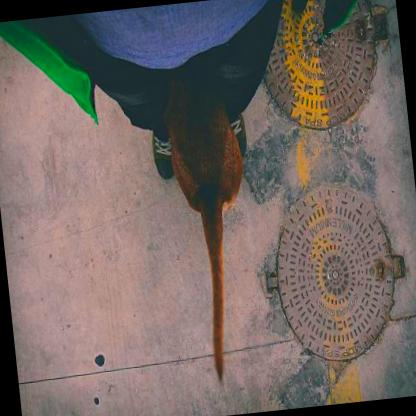manholes: (233, 161, 416, 384), (252, 0, 403, 142)
